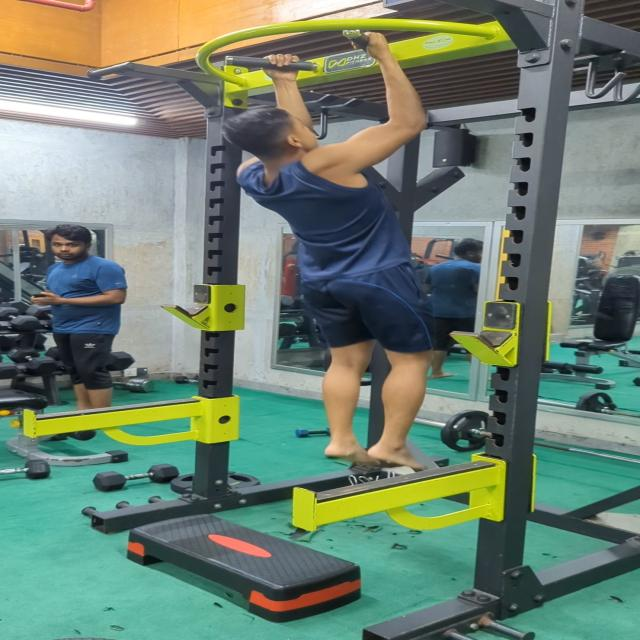Normal_PullUps: (216, 28, 434, 478)
